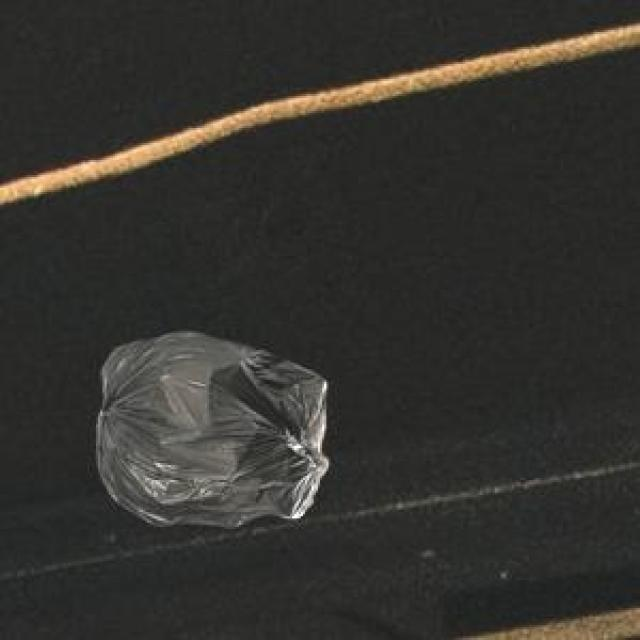Trashbag: (88, 319, 339, 534)
